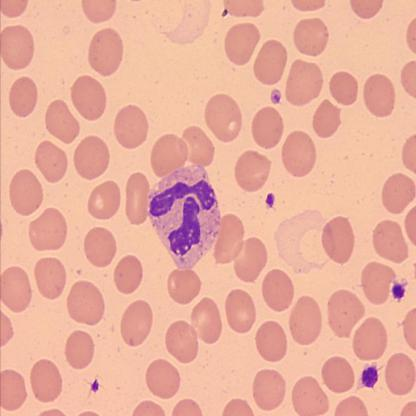Segmented neutrophil: (145, 162, 222, 272)
